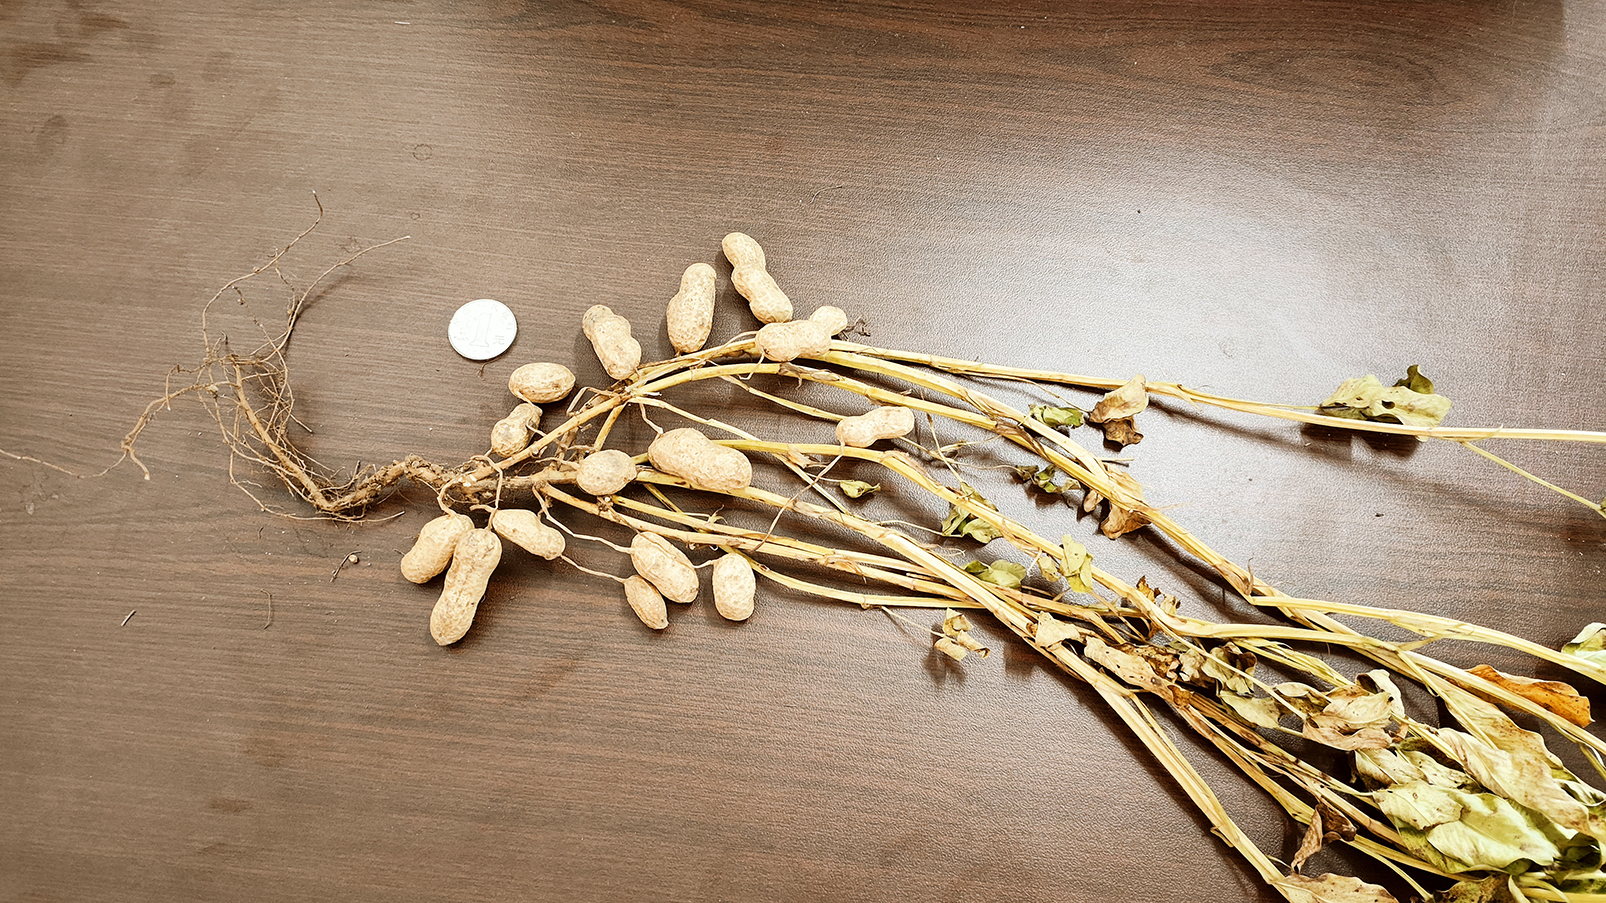h: (431, 527, 502, 646), (649, 427, 754, 493), (721, 232, 794, 322), (399, 510, 475, 582), (756, 305, 849, 361), (633, 530, 700, 602), (666, 261, 717, 352), (580, 305, 641, 378), (492, 507, 564, 561), (835, 405, 916, 447), (574, 449, 638, 496), (490, 404, 545, 455), (713, 552, 756, 619), (508, 361, 574, 402), (625, 576, 668, 630)
